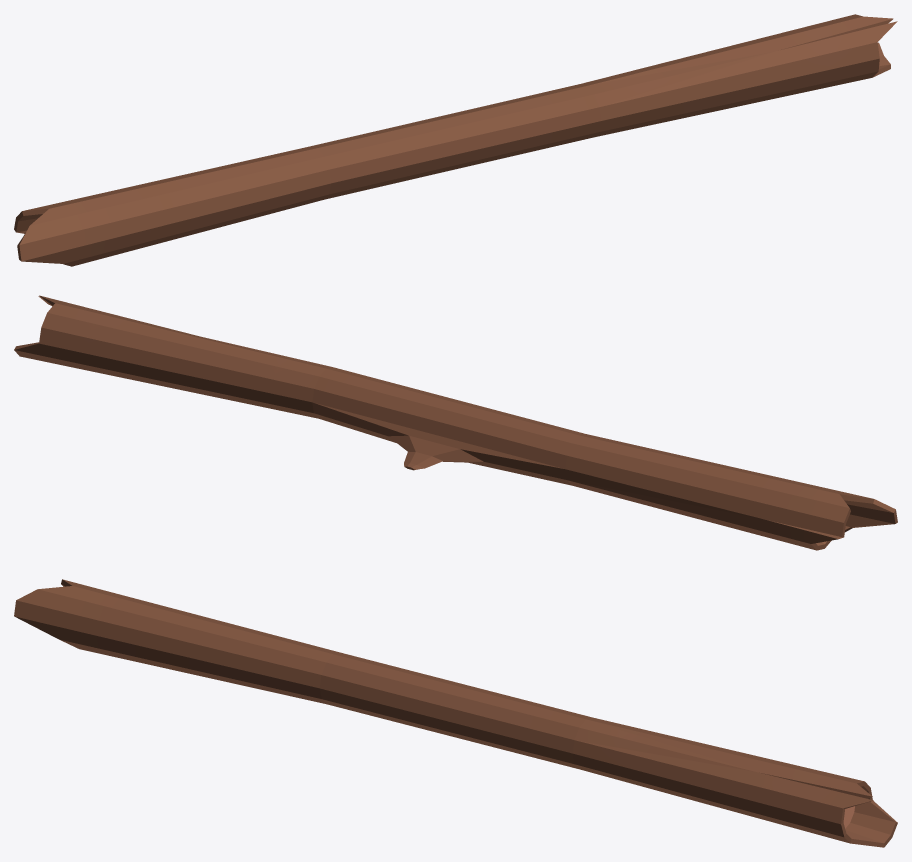
File: mod_bg_RondinPetitPetit.fbx
The picture shows the model from 3 angles, top to bottom: view 1: azimuth 30°, elevation 25°; view 2: azimuth 150°, elevation 25°; view 3: azimuth 330°, elevation 25°; orthographic projection. The views are drawn at different scales.
Visible parts, largest first — view 1: RondinPetitPetit; view 2: RondinPetitPetit; view 3: RondinPetitPetit.
Part boxes in pixels (left/top/right/bottom): RondinPetitPetit: left=14, top=14, right=897, bottom=266; RondinPetitPetit: left=14, top=295, right=897, bottom=550; RondinPetitPetit: left=14, top=579, right=897, bottom=847.
Size of the model in its own units: 183 by 12.5 by 17.36.
